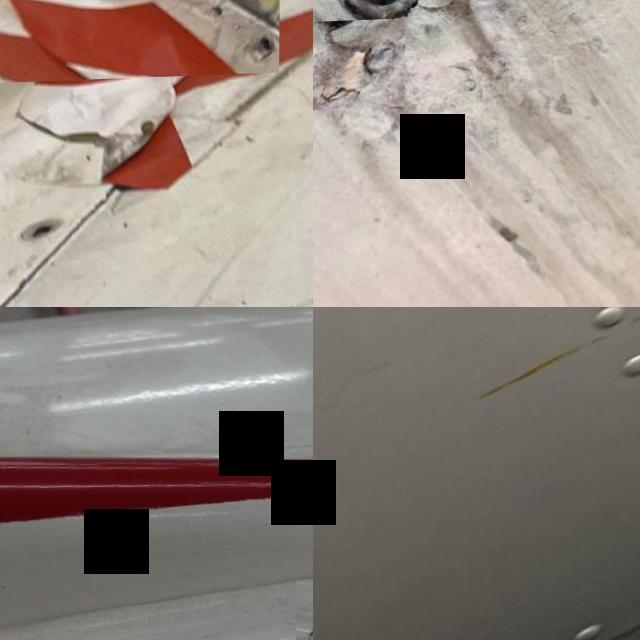Crack: (0, 0, 280, 83), (313, 21, 406, 112)
